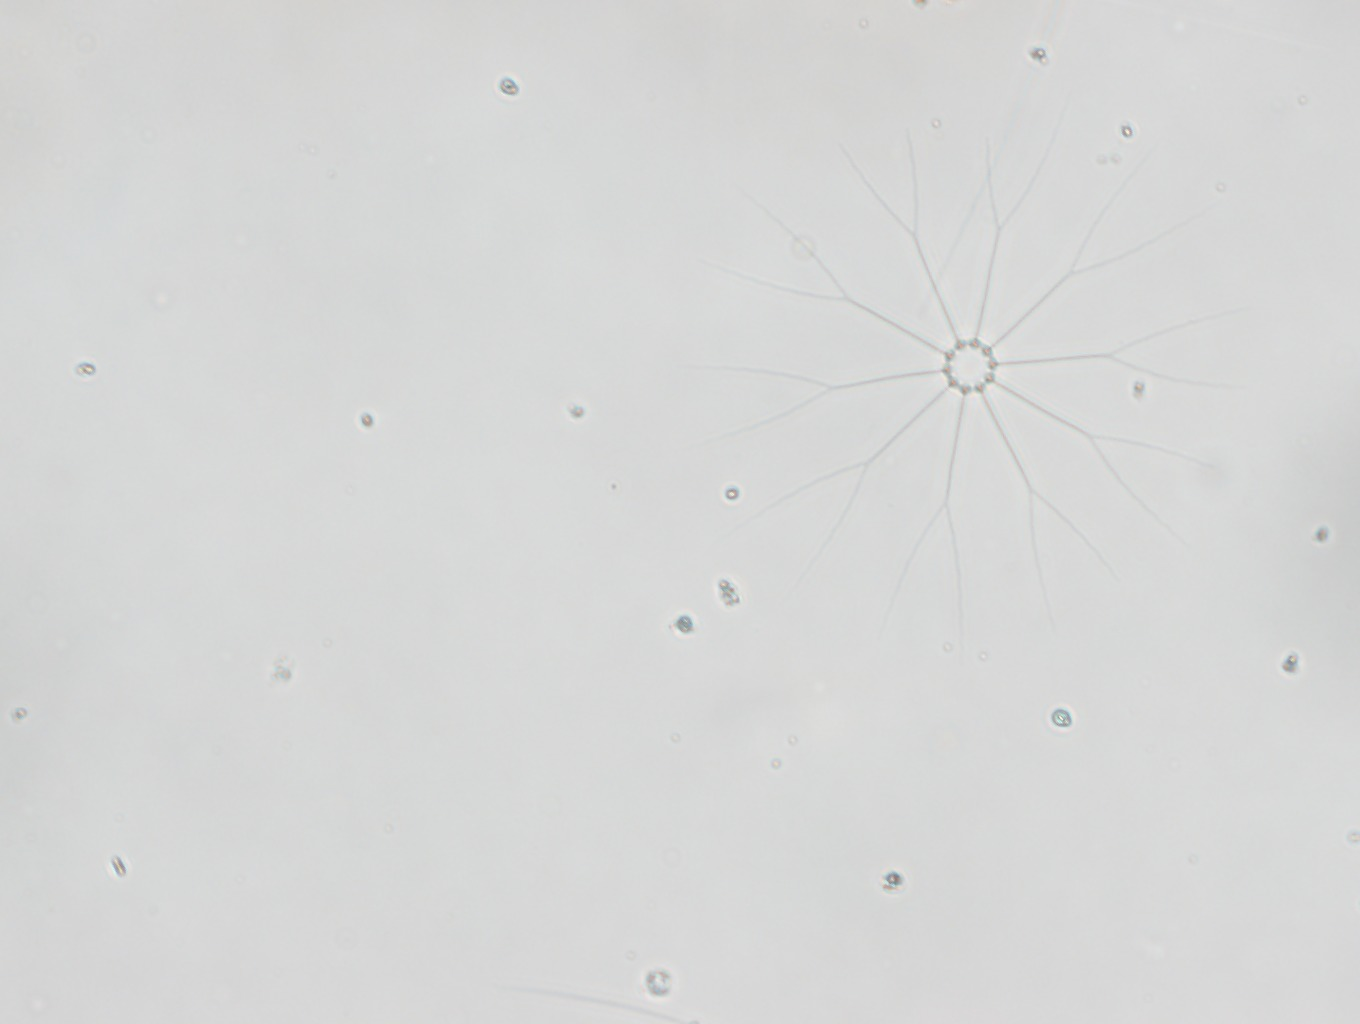bacteriastrum: (707, 125, 1256, 644)
